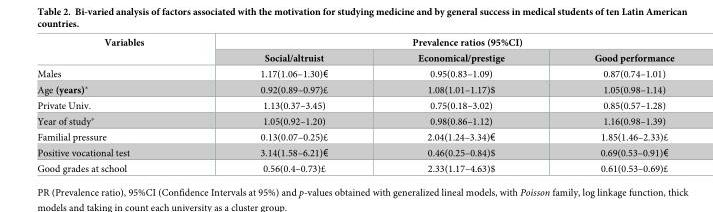table: (36, 37, 673, 173)
table column: (372, 37, 548, 173), (201, 37, 372, 173), (36, 37, 201, 173), (548, 37, 673, 173)
table column header: (36, 37, 673, 64)
table row: (36, 80, 673, 97), (36, 143, 673, 160), (36, 64, 673, 80), (36, 127, 673, 143), (36, 97, 673, 112), (36, 112, 673, 127), (36, 50, 673, 64), (36, 37, 673, 50), (36, 160, 673, 173)
table spanning cell: (201, 37, 673, 50), (36, 37, 201, 64)
